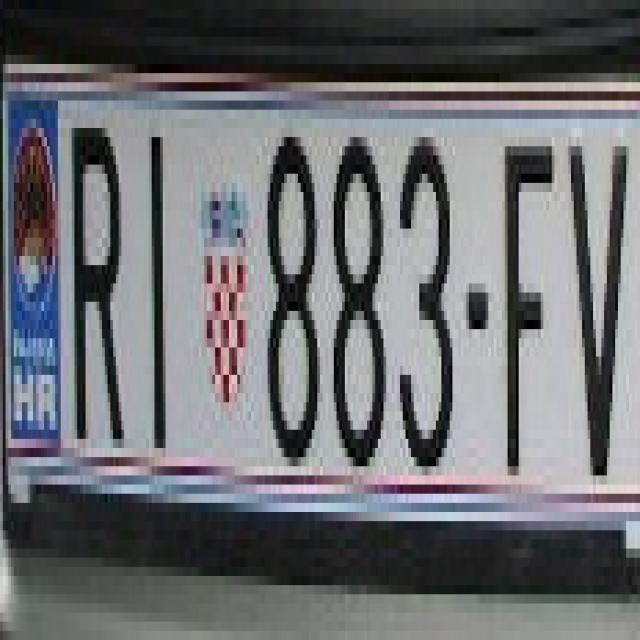3: (398, 128, 460, 476)
8: (256, 100, 321, 476), (331, 128, 386, 466)
F: (500, 118, 554, 484)
V: (562, 118, 624, 476)
